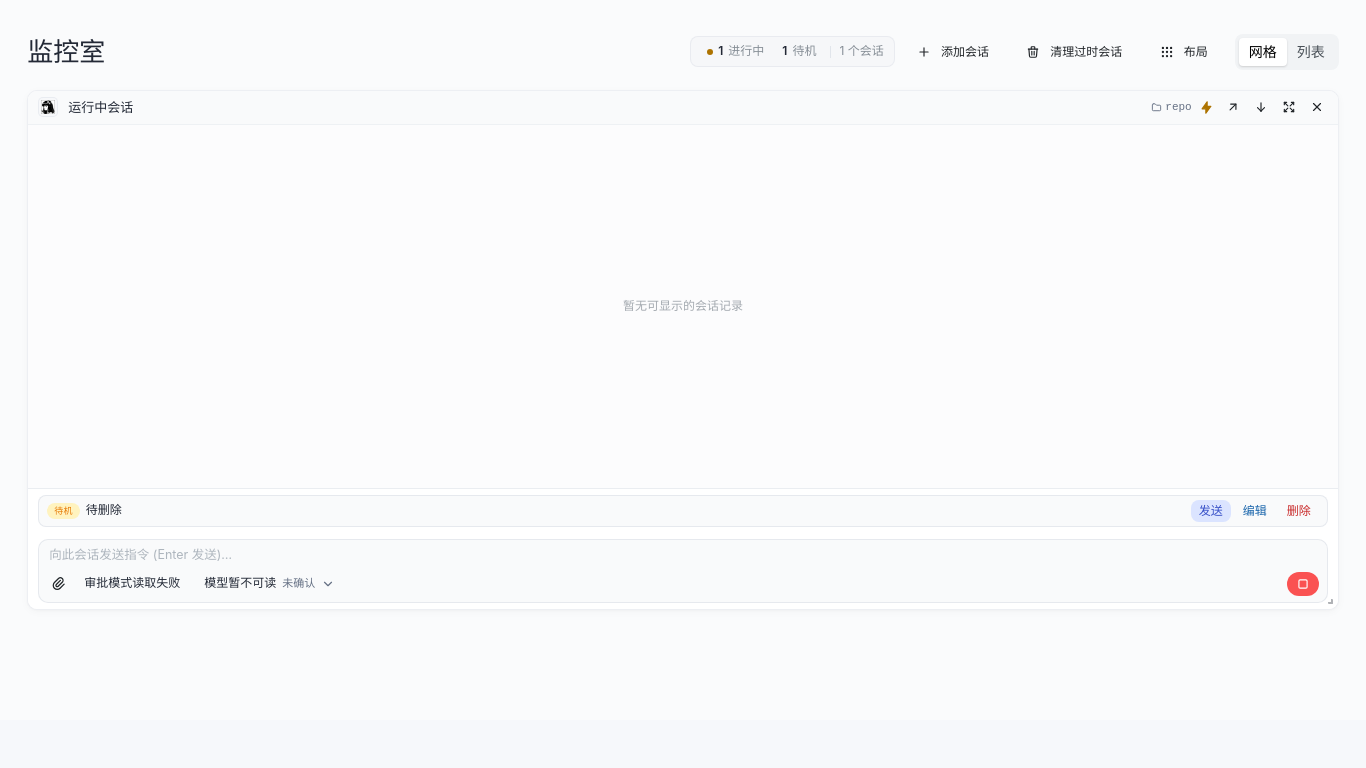
MonitorPage › deletes a queued message from the monitor room
Expected: the text "待删除" is shown, [86, 502, 122, 519]
Click the button "删除": point(1299, 511) [1279, 500, 1319, 522]
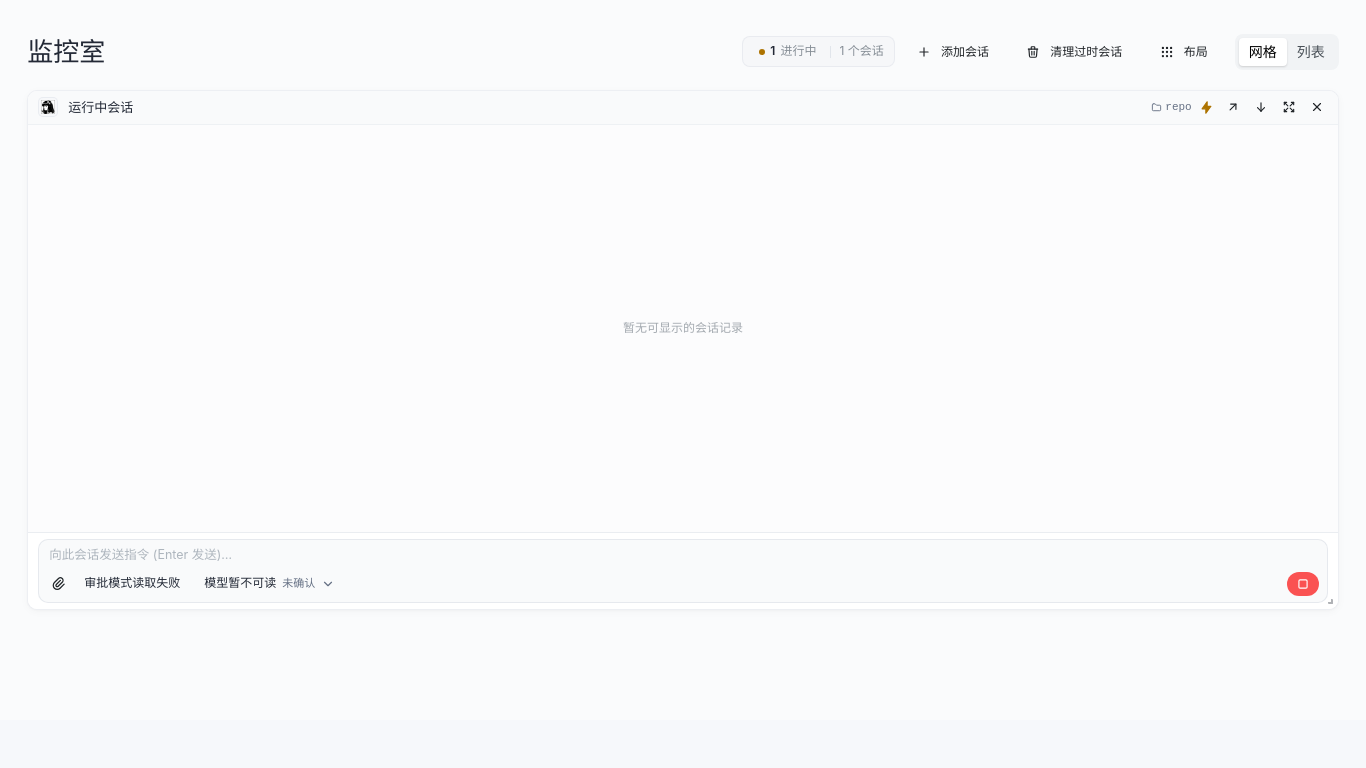
Expected: the text "待删除" is gone
